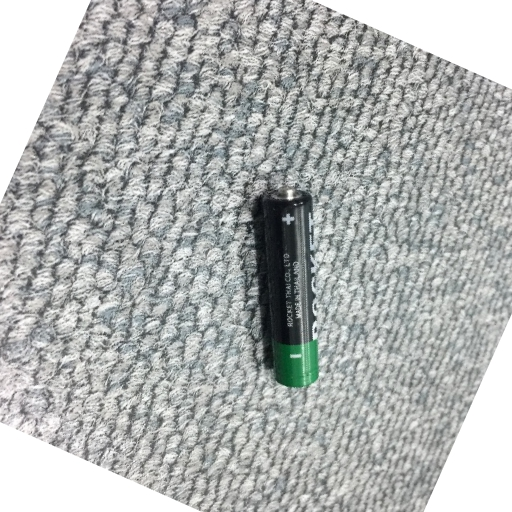Battery_0: (249, 172, 330, 391)
